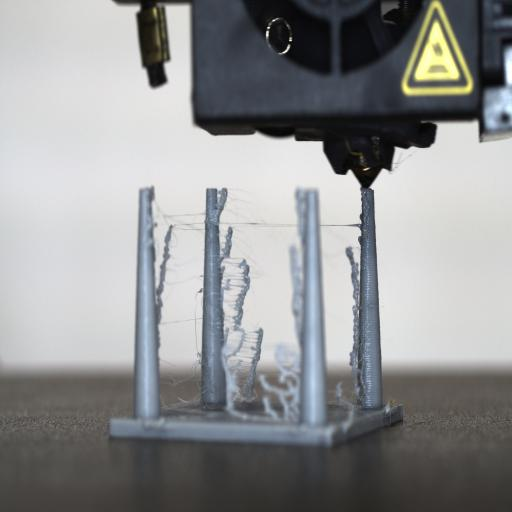stringing: (148, 190, 352, 424)
